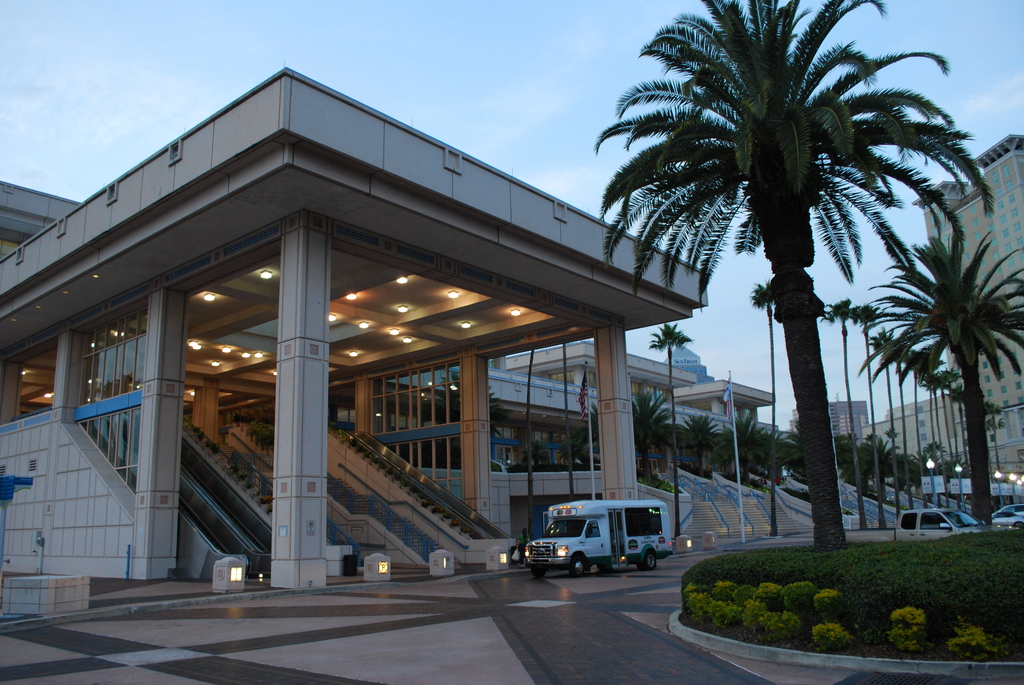mobil: (524, 500, 677, 570), (892, 507, 983, 543)
